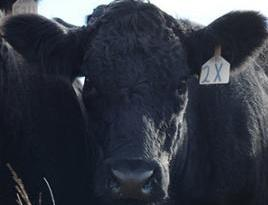muzzles: (95, 158, 170, 204)
